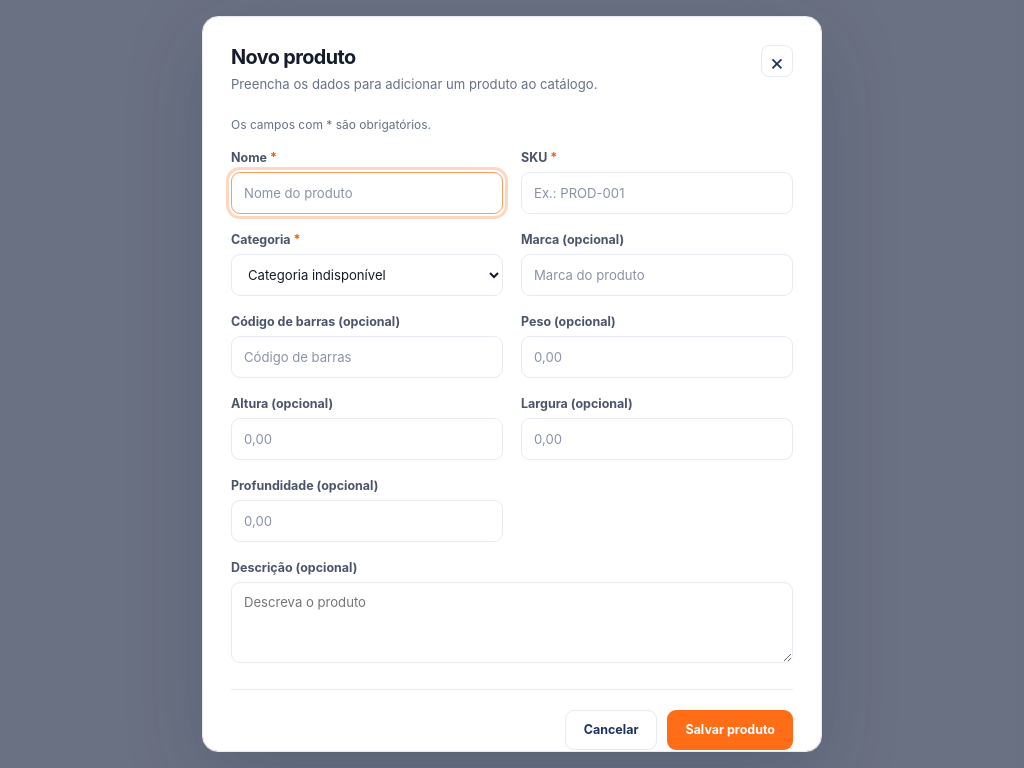
Test: validates required fields, available categories and nonnegative measures before saving
The image size is (1024, 768).
Type "-1" into the field labelled "Peso (opcional)" at point(657, 357), box [521, 336, 793, 378]
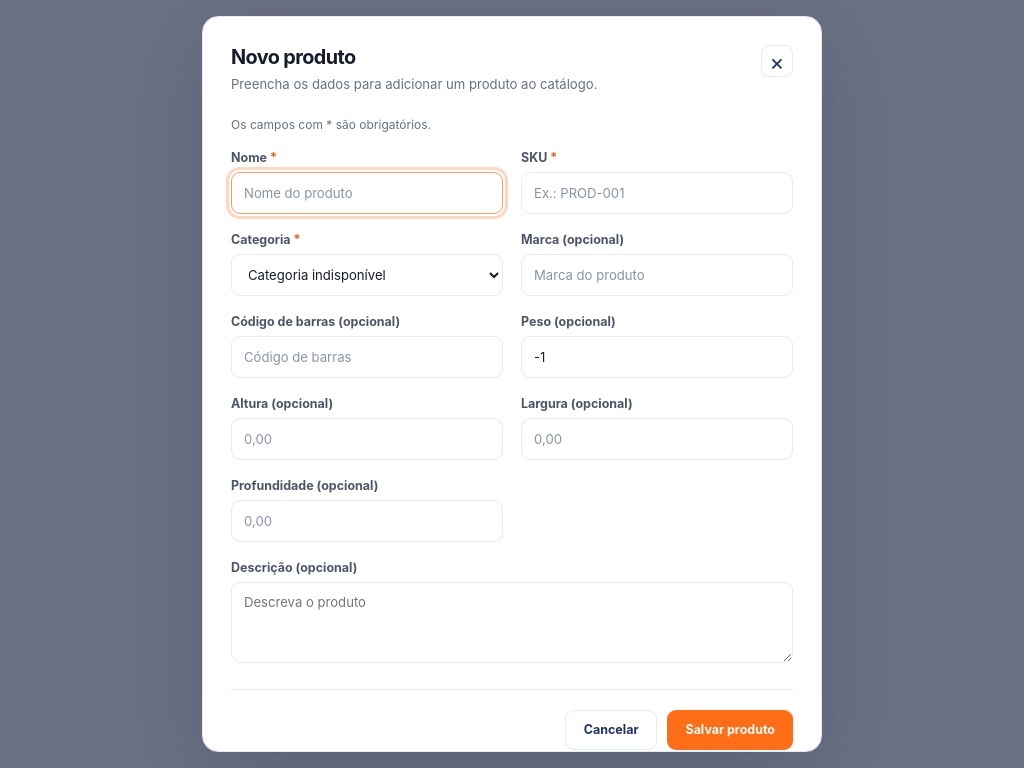
Submit the form named "Salvar produto", box [231, 117, 793, 750]
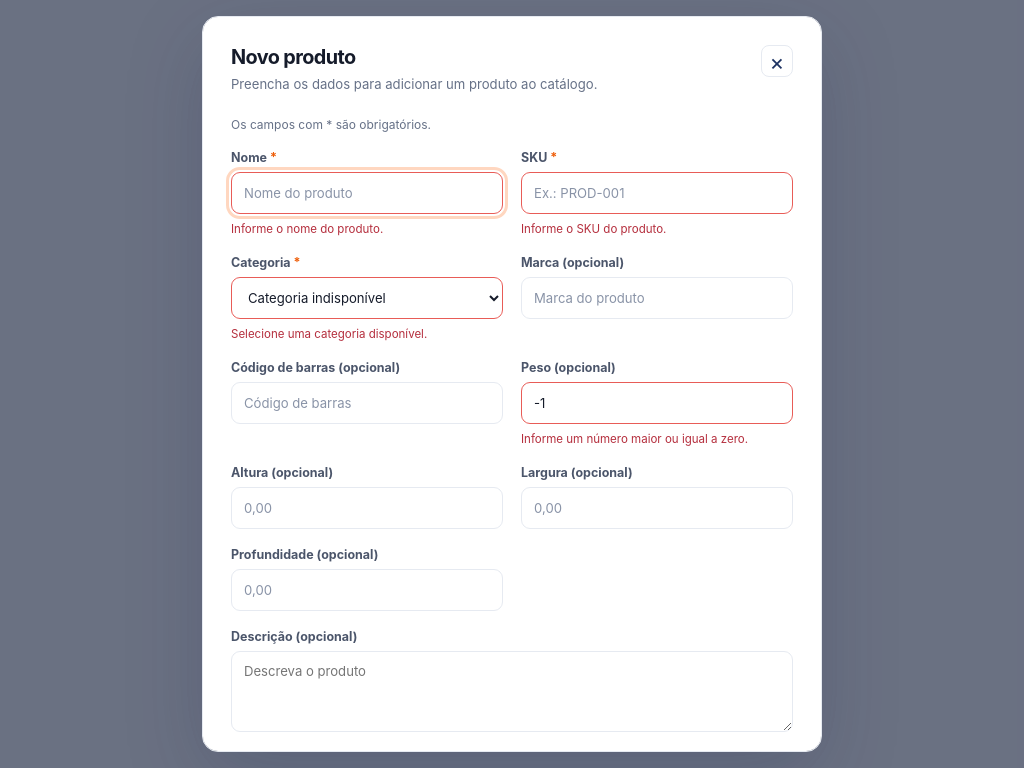
Expected: the text "Informe o nome do produto." is shown, [231, 222, 383, 236]
Expected: the text "Informe o SKU do produto." is shown, [521, 222, 666, 236]
Expected: the text "Selecione uma categoria disponível." is shown, [231, 327, 427, 341]
